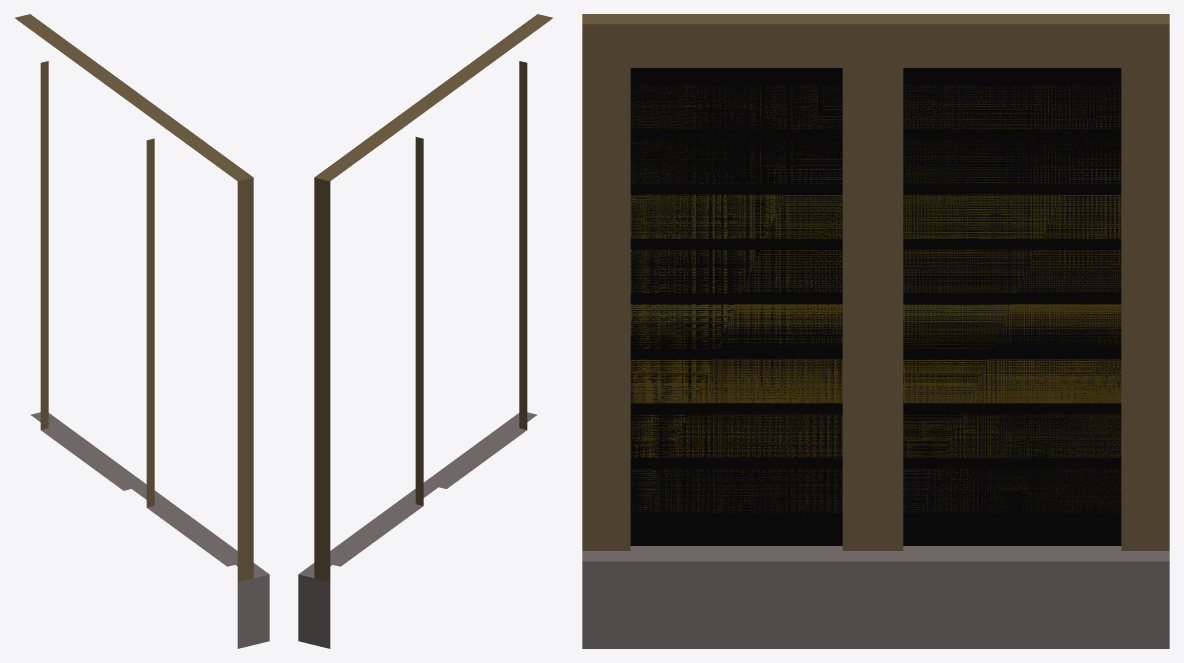
The picture shows the model from 3 angles, left to right: view 1: azimuth 30°, elevation 25°; view 2: azimuth 150°, elevation 25°; view 3: azimuth 270°, elevation 25°; orthographic projection. The views are drawn at different scales.
Size of the model in its own units: 8 by 112 by 97.
Materials: 1 (1 with a texture image).
